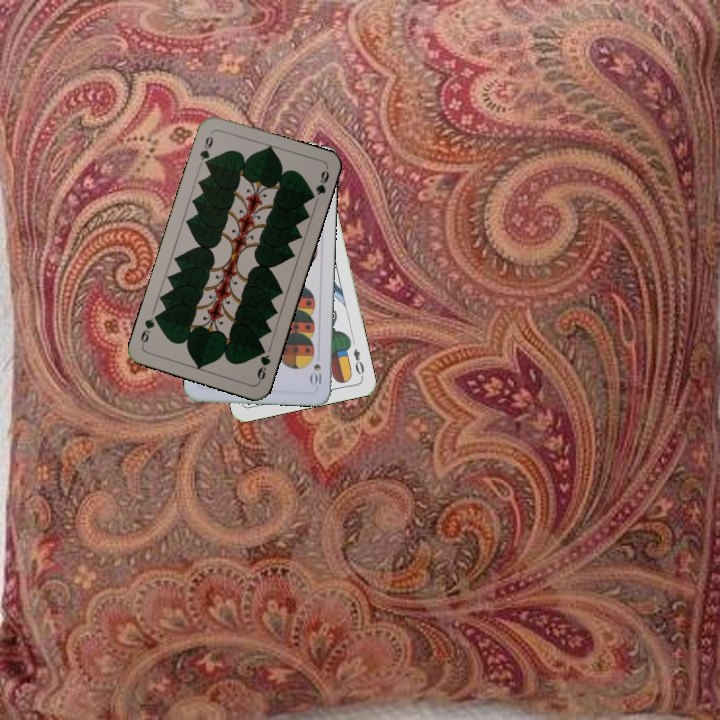EO: (349, 345, 367, 380)
G9: (253, 343, 273, 385), (195, 129, 216, 169)
S10: (308, 360, 324, 386)
